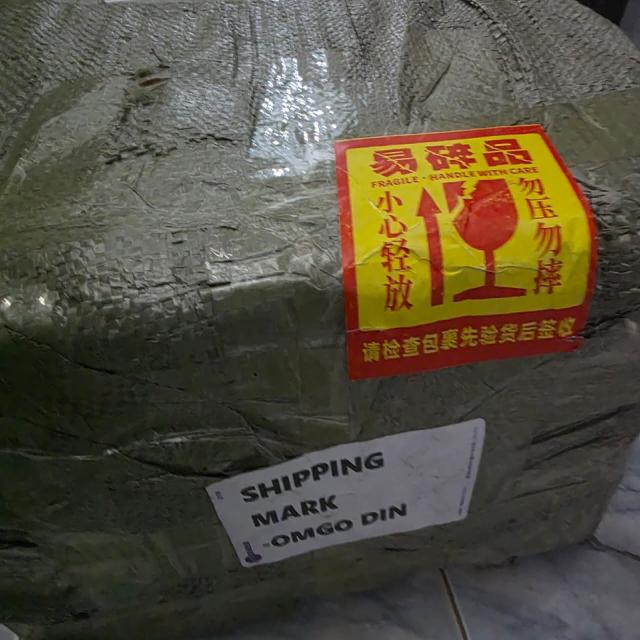export_mark_label: (196, 430, 485, 570)
fragile_label: (440, 176, 538, 307)
this_side_up_label: (412, 174, 453, 312)
